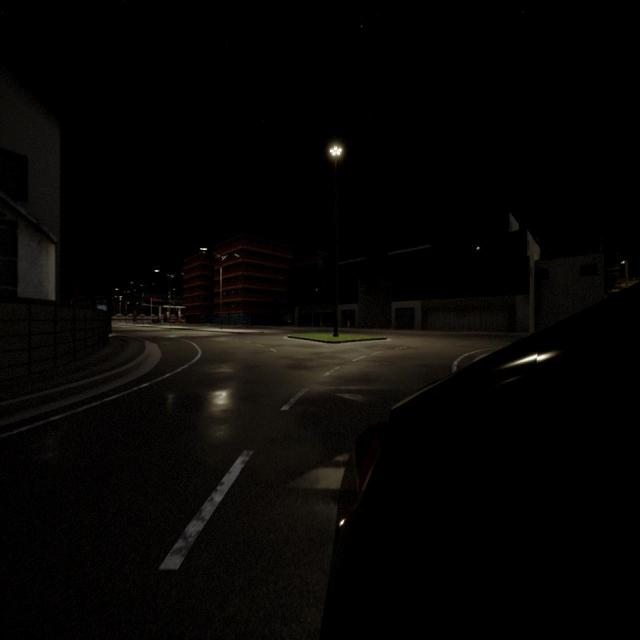Vehicle: (328, 291, 640, 637), (171, 318, 185, 324), (152, 318, 160, 324)
